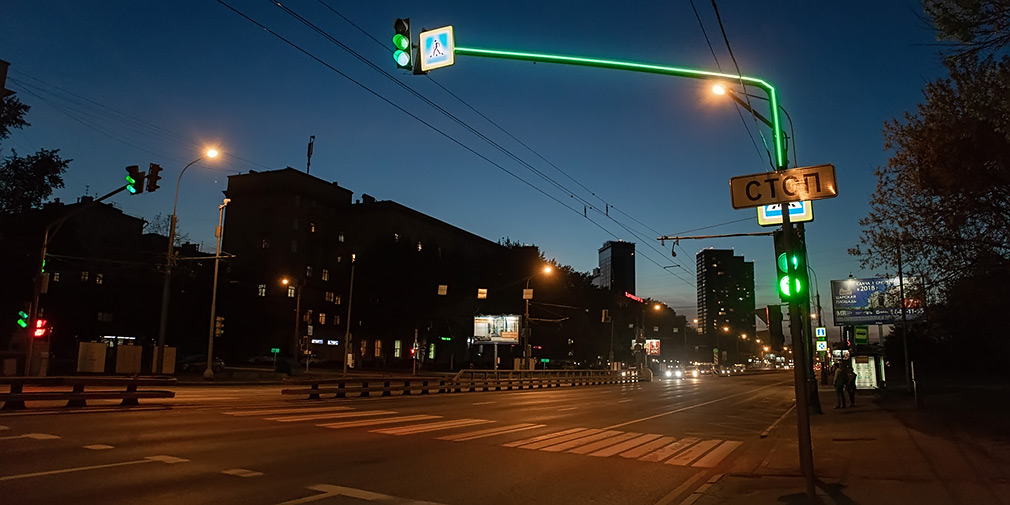tl: (772, 231, 812, 301), (387, 18, 417, 74), (143, 164, 163, 196), (125, 160, 141, 197)
